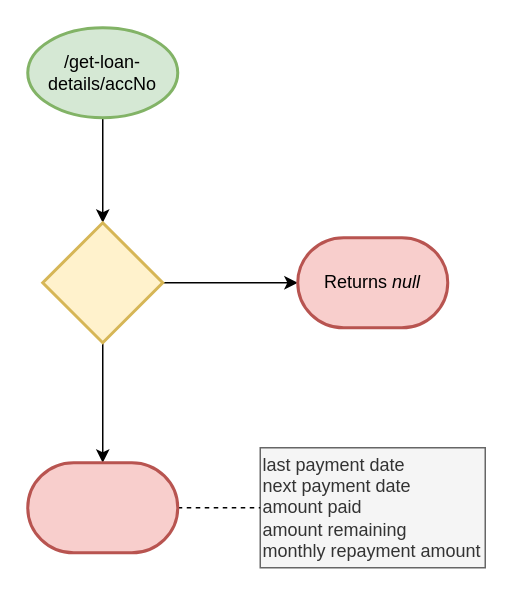
Some shapes in this 512 by 594 pixel diagram are drawn without their labels. The box of each missing label's shape, as (x1, y1, x2, y2) in pixels:
Has an active loan at bank?: (40, 220, 164, 344)
Returns loan details: (26, 460, 178, 554)
